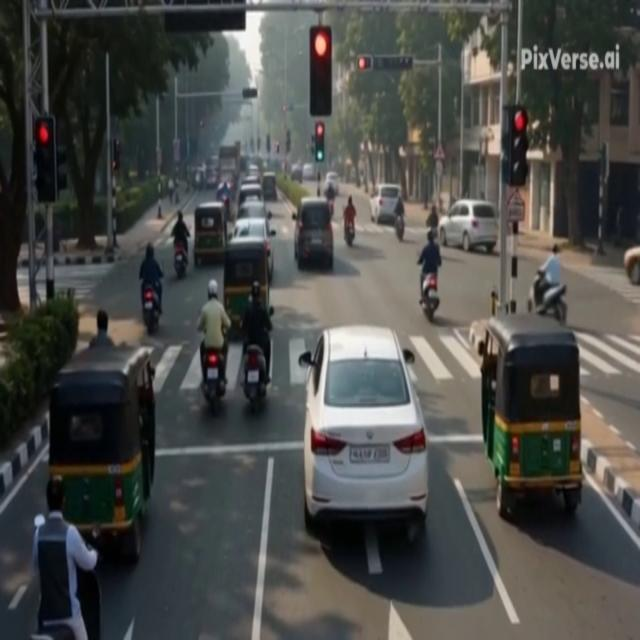car: (299, 326, 428, 541), (438, 200, 498, 253), (292, 197, 333, 270), (232, 217, 275, 281), (371, 184, 401, 224), (237, 199, 272, 220), (624, 246, 640, 286), (238, 184, 263, 208), (262, 172, 277, 201), (324, 172, 339, 195), (302, 164, 316, 182), (290, 164, 302, 183), (241, 175, 260, 186), (248, 165, 259, 175)
scooty: (528, 271, 567, 326), (243, 344, 268, 413), (77, 568, 101, 639), (201, 350, 226, 413), (420, 274, 439, 322), (143, 286, 159, 335), (174, 242, 187, 279), (344, 222, 354, 247), (395, 216, 404, 241)
traffic signal: (502, 105, 529, 186), (310, 26, 332, 117), (34, 116, 57, 203), (56, 131, 67, 196), (315, 121, 324, 162), (111, 138, 121, 172), (357, 55, 373, 71), (310, 134, 315, 156), (286, 130, 290, 153), (266, 134, 270, 153), (257, 136, 260, 152), (276, 142, 279, 154), (200, 120, 203, 127)
truck: (219, 144, 239, 178)
